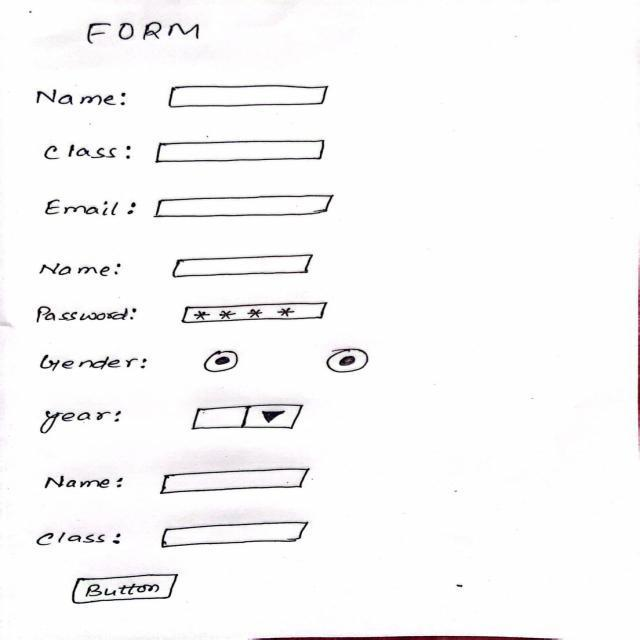button: (67, 568, 185, 618)
radio: (326, 342, 372, 382), (203, 347, 243, 378)
textbox: (152, 189, 349, 224), (162, 77, 341, 115), (156, 513, 320, 553), (154, 133, 337, 168), (152, 465, 314, 501), (164, 250, 320, 283)
